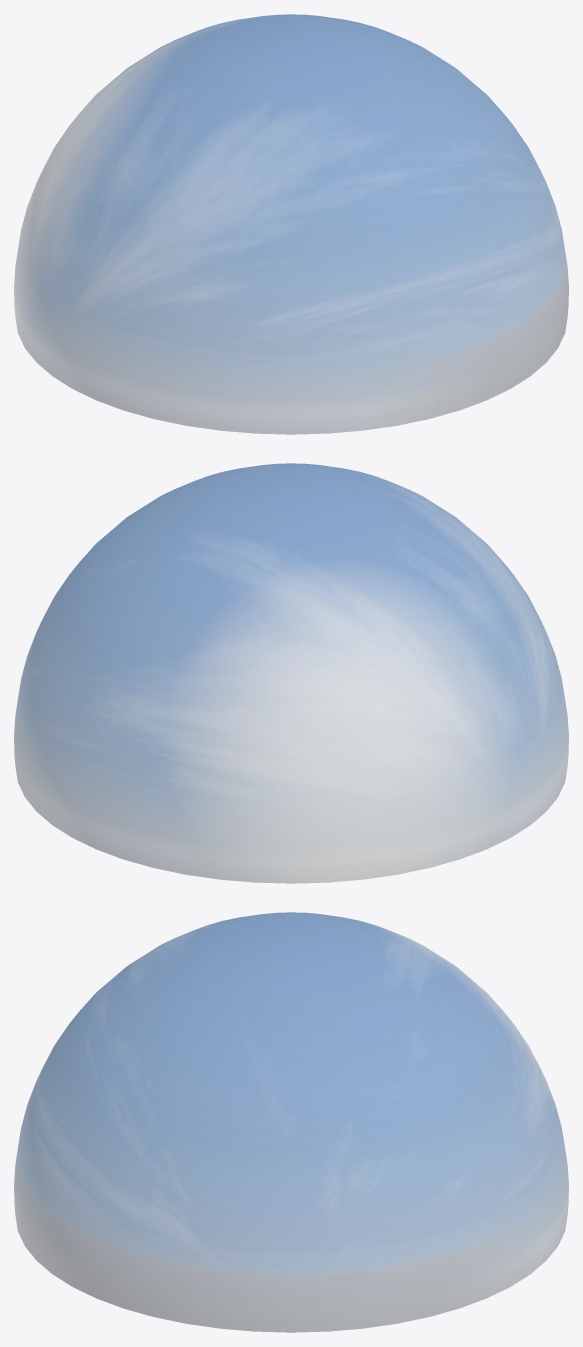
Rendered from pequod_deck.gltf.
3 renders of one model, top to bottom at view 1: azimuth 30°, elevation 25°; view 2: azimuth 150°, elevation 25°; view 3: azimuth 270°, elevation 25°, orthographic.
Visible parts, largest first — view 1: SkyDome; view 2: SkyDome; view 3: SkyDome.
Part boxes in pixels (x1,y1,x2,y2): SkyDome: (14, 14, 568, 434); SkyDome: (14, 463, 568, 883); SkyDome: (14, 912, 568, 1332).
Size of the model in its own units: 960 by 530 by 960.
33 materials, 32 textured.
